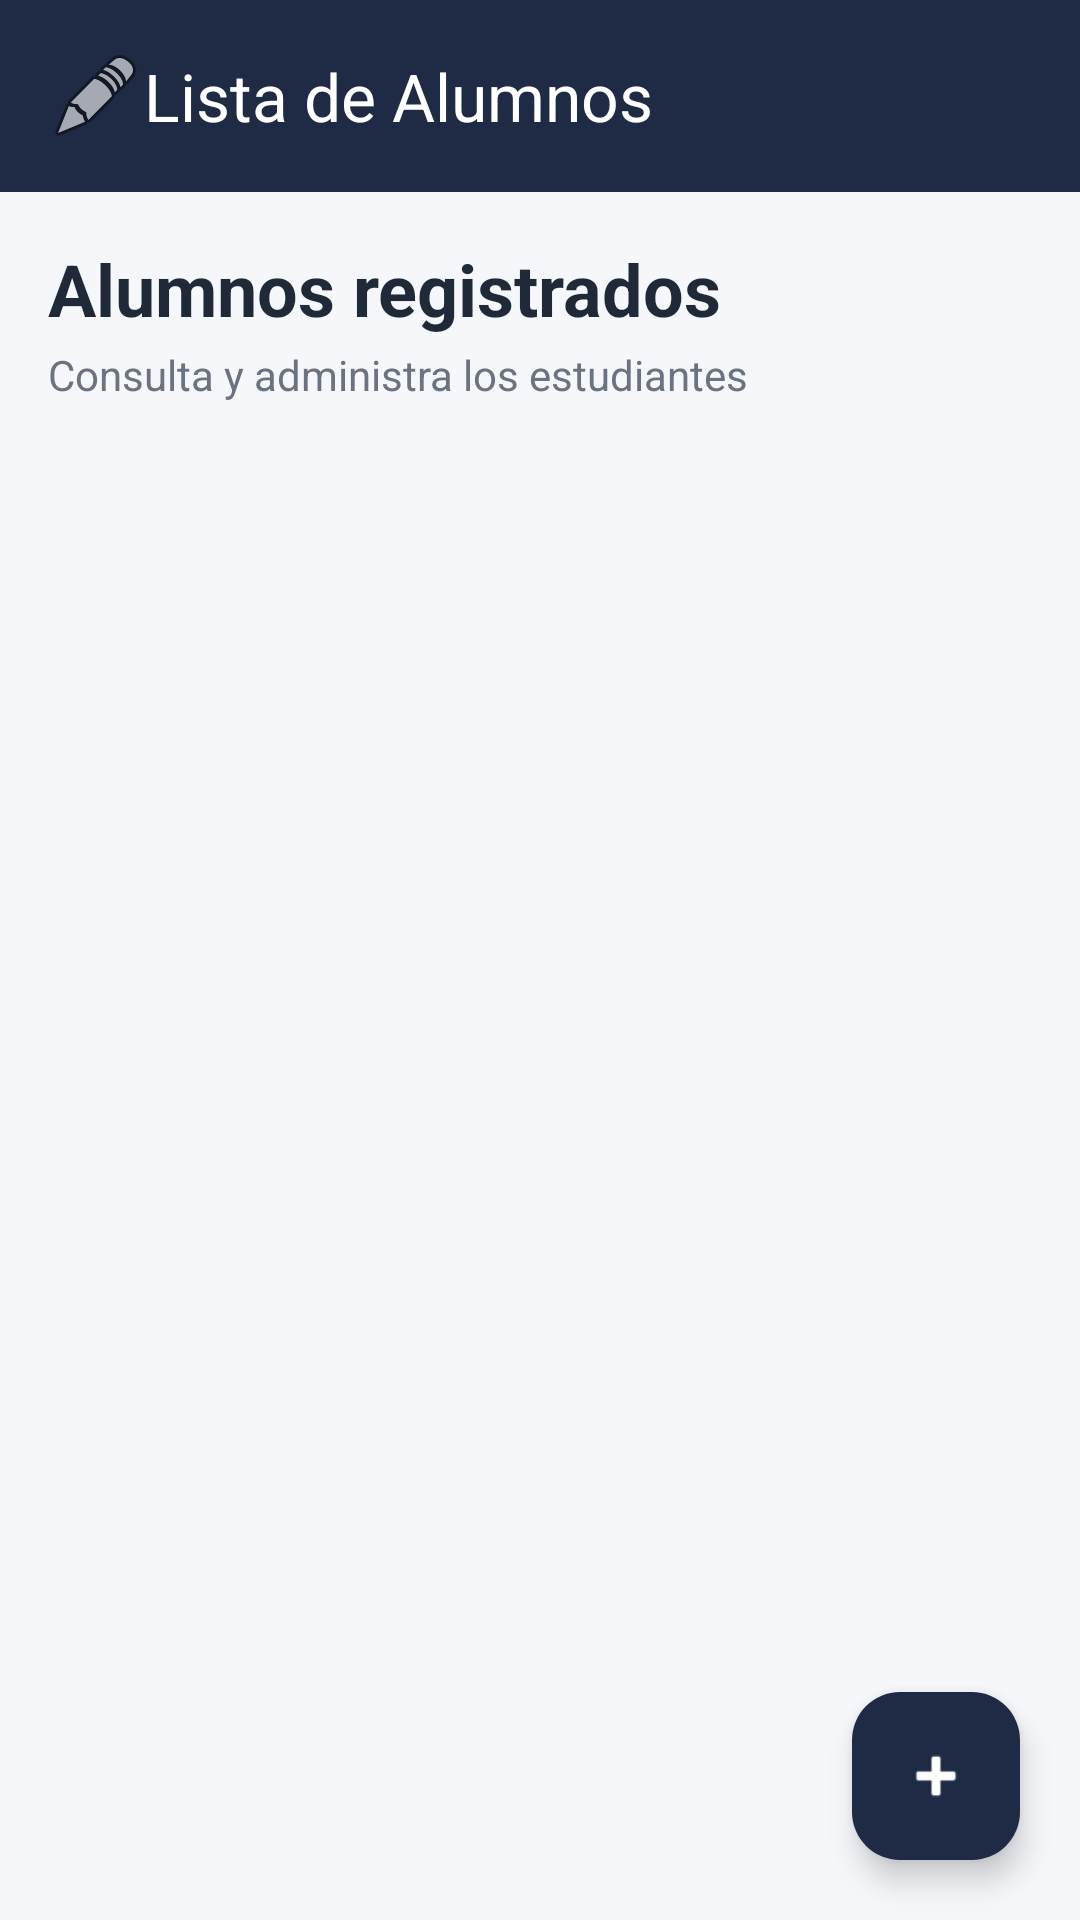

Icon click points for this 1080*1920 phone screenshot, format point (x, y):
Agregar alumno: point (936, 1776)
